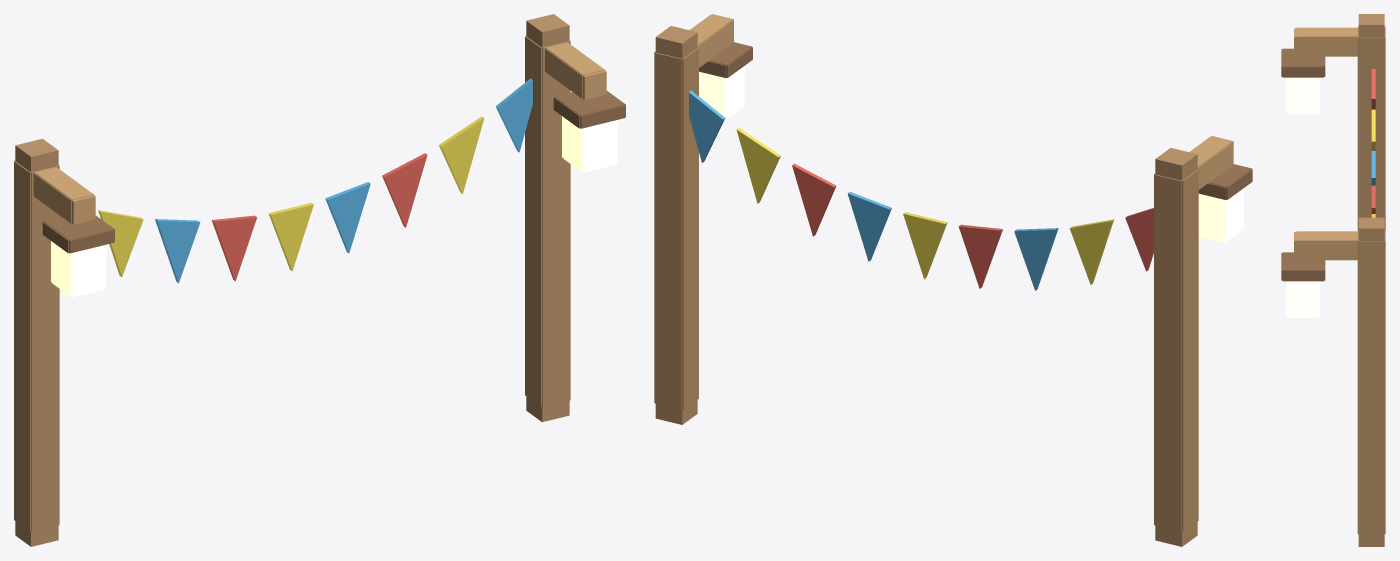
Rendered from prop_lantern_bunting.glb.
The picture shows the model from 3 angles, left to right: view 1: azimuth 30°, elevation 25°; view 2: azimuth 150°, elevation 25°; view 3: azimuth 270°, elevation 25°; orthographic projection. The views are drawn at different scales.
Parts seen in each view (by area): view 1: Mesh_Lantern_Bunting; view 2: Mesh_Lantern_Bunting; view 3: Mesh_Lantern_Bunting.
Part boxes in pixels (x1,y1,x2,y2): Mesh_Lantern_Bunting: (14, 14, 625, 546); Mesh_Lantern_Bunting: (654, 14, 1252, 546); Mesh_Lantern_Bunting: (1281, 14, 1385, 546).
Size of the model in its own units: 5.24 by 3.5 by 1.04.
